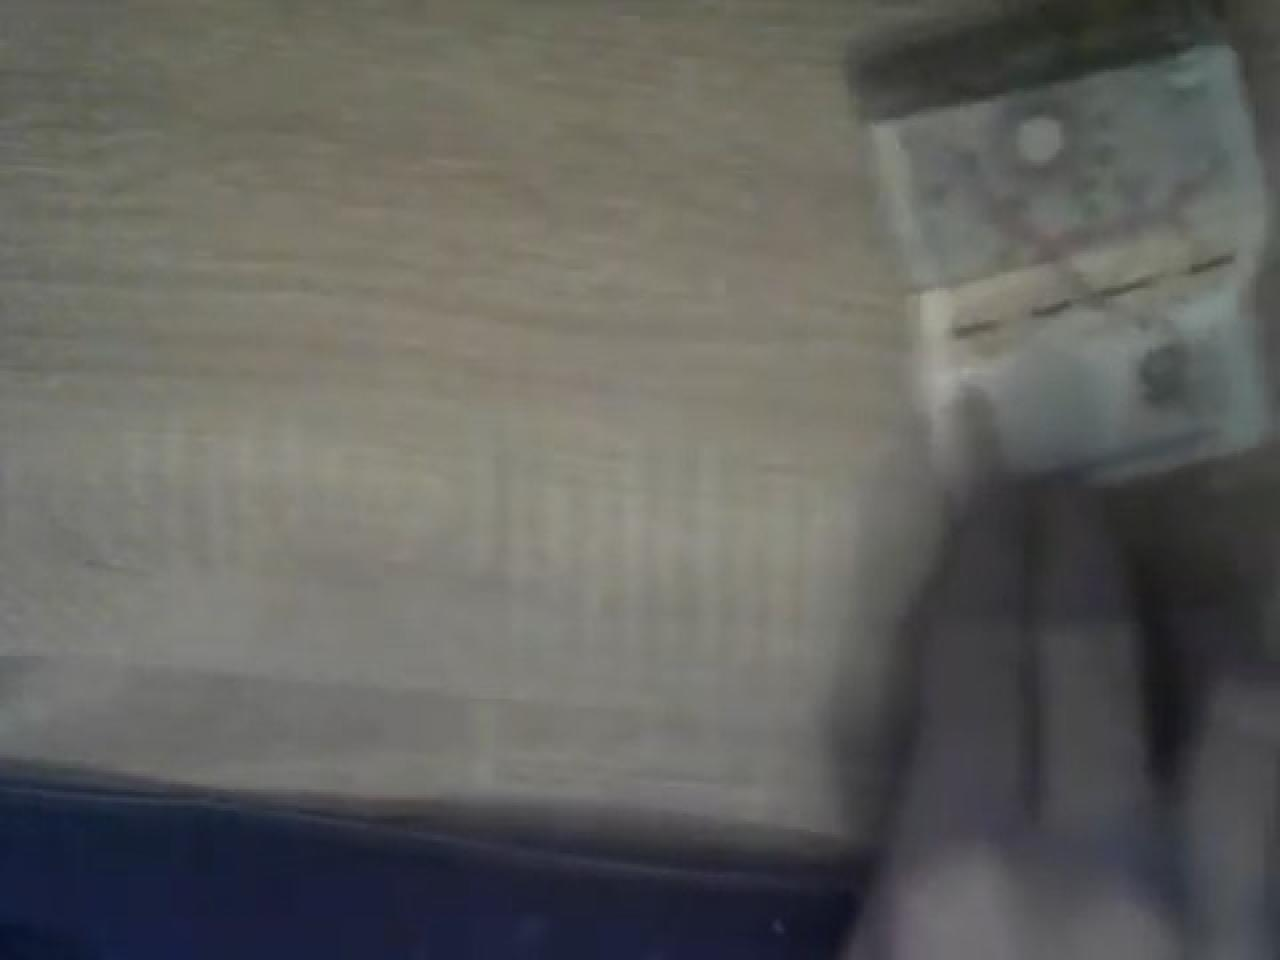10leva: (854, 0, 1280, 528)
